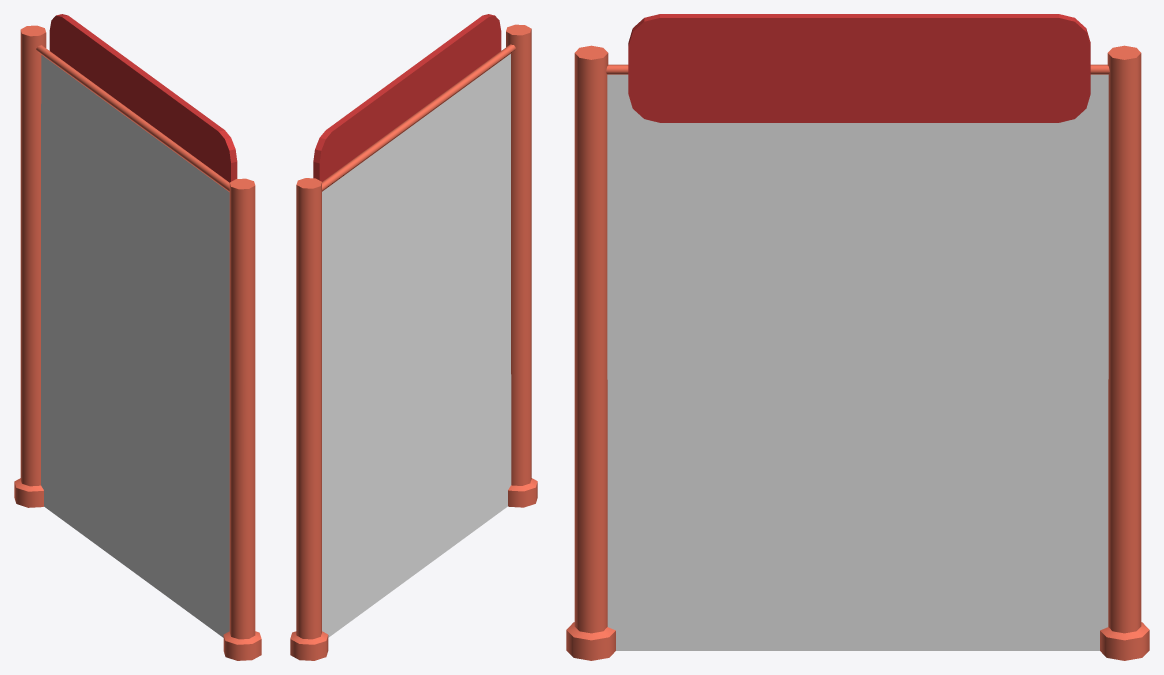
The model's file is red gate.fbx.
The picture shows the model from 3 angles, left to right: view 1: azimuth 30°, elevation 25°; view 2: azimuth 150°, elevation 25°; view 3: azimuth 270°, elevation 25°; orthographic projection. The views are drawn at different scales.
Visible parts, largest first — view 1: plane, red_gate; view 2: plane, red_gate; view 3: plane, red_gate.
Part boxes in pixels (x1,y1,x2,y2): plane: [41, 55, 229, 637]; red_gate: [14, 14, 261, 660]; plane: [322, 54, 511, 637]; red_gate: [290, 14, 537, 660]; plane: [607, 74, 1108, 650]; red_gate: [566, 14, 1149, 660].
Bounding box in the file's own units: 0.2406 × 3.37 × 2.79.
1 material, 1 textured.
